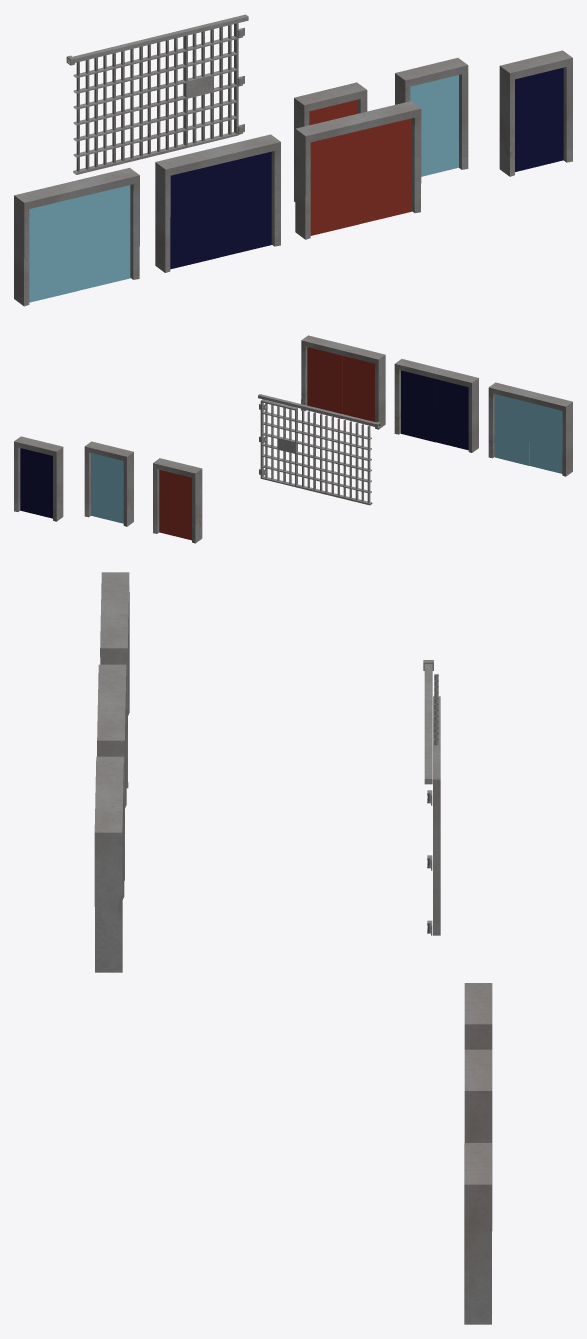
File: Doors.fbx
3 views of the same model, one above another, from view 1: azimuth 30°, elevation 25°; view 2: azimuth 150°, elevation 25°; view 3: azimuth 270°, elevation 25° (orthographic). The views are drawn at different scales.
Parts seen in each view (by area): view 1: polySurface426, polySurface389, polySurface395, polySurface392, polySurface396, polySurface391, polySurface397, polySurface394, polySurface390, polySurface393, polySurface402, polySurface444 (+5 smaller); view 2: polySurface426, polySurface389, polySurface444, polySurface392, polySurface393, polySurface390, polySurface391, polySurface395, polySurface394, polySurface396, polySurface398, polySurface402 (+5 smaller); view 3: polySurface396, polySurface403, polySurface390, polySurface393, polySurface401, polySurface399, polySurface426, polySurface444.
Part boxes in pixels (<box>): polySurface426: <box>66,14,248,174</box>; polySurface389: <box>78,185,130,290</box>; polySurface395: <box>360,118,411,223</box>; polySurface392: <box>220,151,271,257</box>; polySurface396: <box>295,101,421,239</box>; polySurface391: <box>29,197,78,302</box>; polySurface397: <box>310,130,359,235</box>; polySurface394: <box>170,164,219,269</box>; polySurface390: <box>14,167,139,306</box>; polySurface393: <box>155,134,280,272</box>; polySurface402: <box>515,67,563,171</box>; polySurface444: <box>183,23,238,147</box>; polySurface426: <box>258,394,380,505</box>; polySurface389: <box>494,394,529,465</box>; polySurface444: <box>260,399,297,487</box>; polySurface392: <box>401,370,435,442</box>; polySurface393: <box>394,359,478,452</box>; polySurface390: <box>488,382,572,476</box>; polySurface391: <box>529,403,562,473</box>; polySurface395: <box>307,347,342,418</box>; polySurface394: <box>435,379,468,450</box>; polySurface396: <box>301,335,385,429</box>; polySurface398: <box>159,470,191,540</box>; polySurface402: <box>20,448,52,518</box>; polySurface396: <box>94,756,124,972</box>; polySurface403: <box>464,1143,491,1324</box>; polySurface390: <box>100,572,129,788</box>; polySurface393: <box>97,664,126,880</box>; polySurface401: <box>464,1049,492,1230</box>; polySurface399: <box>464,983,492,1049</box>; polySurface426: <box>423,660,440,935</box>; polySurface444: <box>433,745,440,935</box>.
Size of the model in its own units: 24.08 by 8.07 by 8.99.
